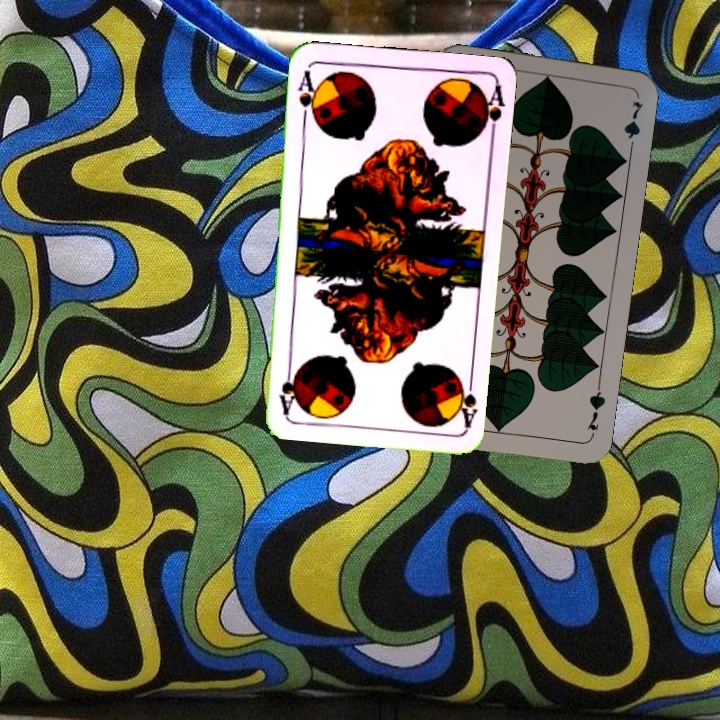G7: (583, 381, 608, 440)
SA: (450, 370, 479, 430), (293, 65, 321, 125)
